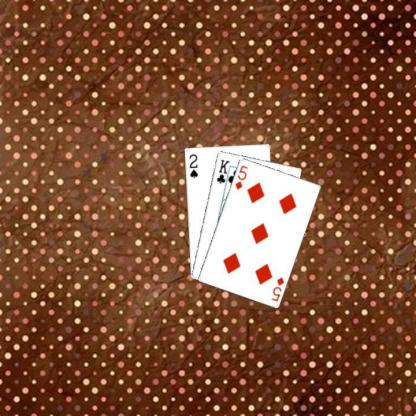2S: (186, 151, 198, 179)
5D: (232, 162, 249, 191), (268, 275, 286, 302)
KC: (214, 157, 232, 188)
